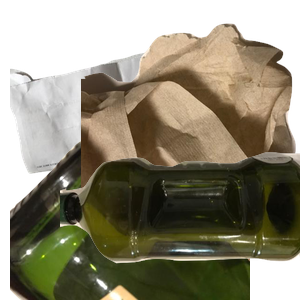glass: (10, 120, 250, 300)
paper: (10, 39, 236, 205)
plastic: (60, 149, 300, 300)
trash: (81, 21, 300, 201)
